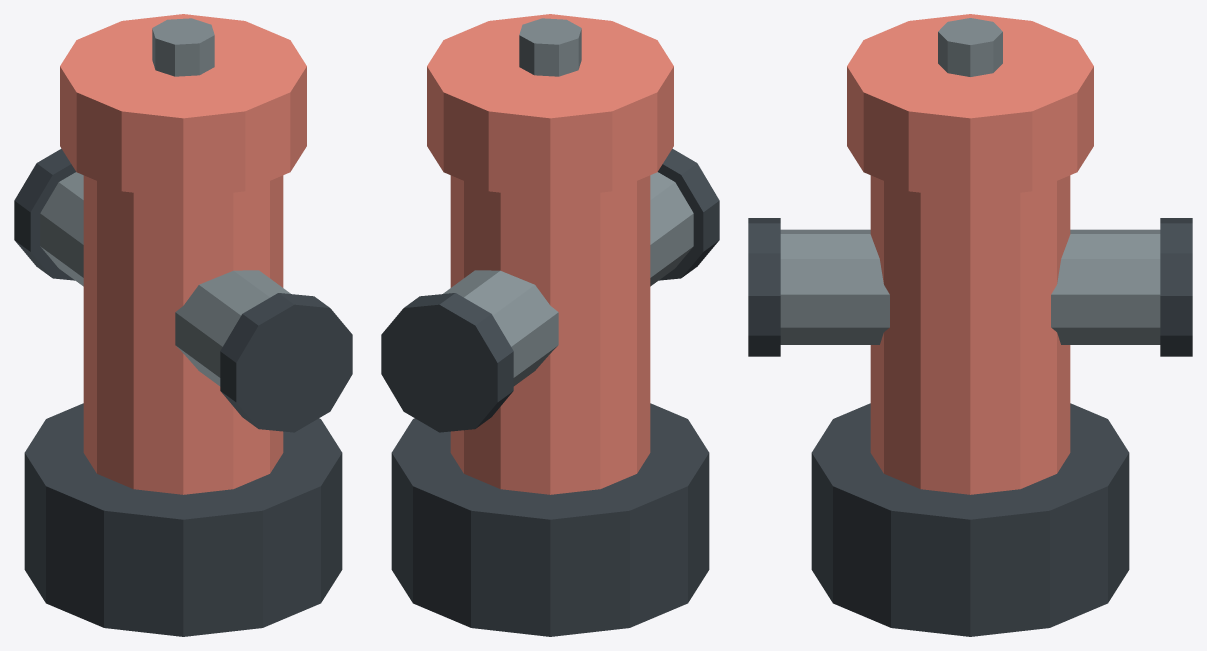
File: Hydrant.fbx
3 views of the same model, side by side, from view 1: azimuth 30°, elevation 25°; view 2: azimuth 150°, elevation 25°; view 3: azimuth 270°, elevation 25° (orthographic).
Visible parts, largest first — view 1: Hydrant; view 2: Hydrant; view 3: Hydrant.
Part boxes in pixels (x1=…): Hydrant: x1=14, y1=14, x2=352, y2=636; Hydrant: x1=381, y1=14, x2=719, y2=636; Hydrant: x1=748, y1=14, x2=1192, y2=636.
Bounding box in the file's own units: 54 × 101 × 75.5.
